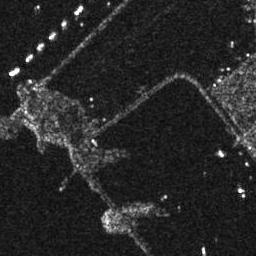ship: (73, 5, 83, 17), (89, 137, 99, 147), (35, 41, 45, 51), (216, 147, 225, 158), (8, 67, 19, 76), (24, 53, 34, 62), (48, 31, 56, 41), (200, 245, 206, 255), (61, 19, 67, 29)
